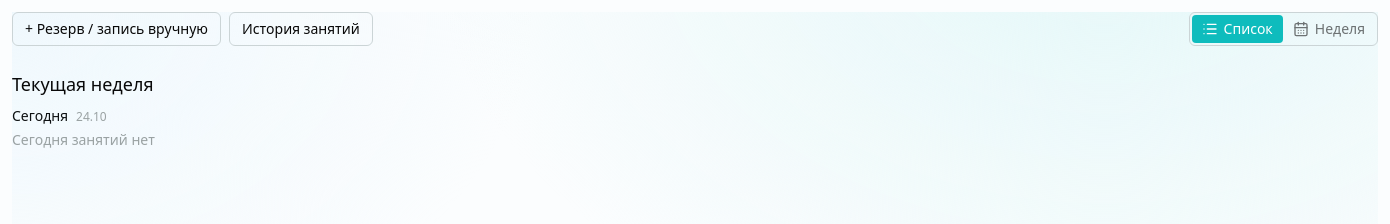
Scenario: BookingsTab: история занятий › по фильтру показывает отменённые
Step 1. Click the button "История занятий" → (301, 29), box x1=229 y1=12 x2=373 y2=46
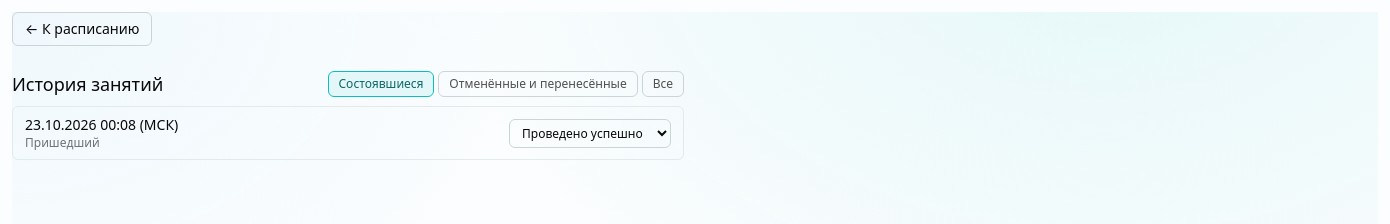
Expected: the text "Отменённый" is not shown
Step 2. Click the button "Отменённые и перенесённые" → (538, 84), box x1=438 y1=71 x2=638 y2=97
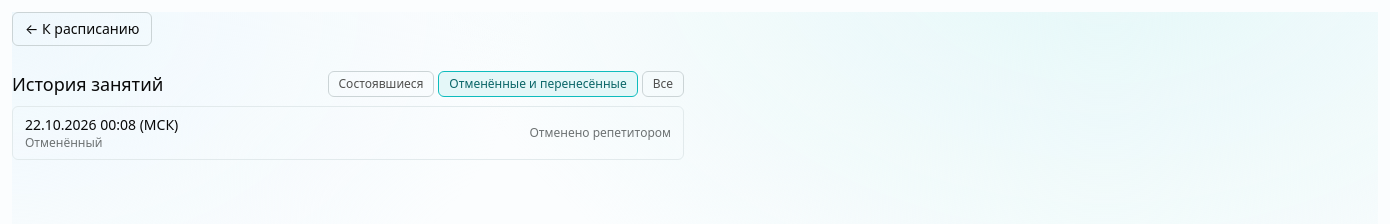
Now the text "Отменённый" is shown, box x1=25 y1=134 x2=103 y2=151
Now the text "Пришедший" is gone
